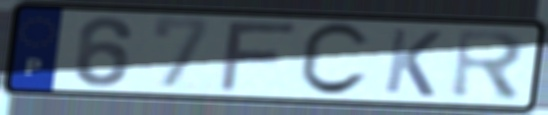6: (72, 14, 135, 89)
7: (148, 15, 217, 93)
C: (294, 20, 373, 100)
F: (214, 20, 302, 94)
K: (381, 26, 446, 100)
R: (447, 26, 530, 104)
